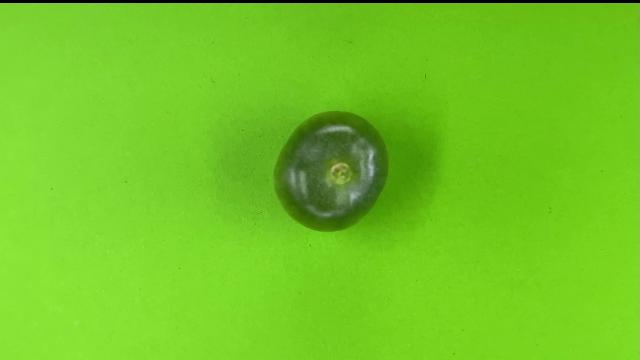Fruit Maturation: (273, 110, 390, 232)
